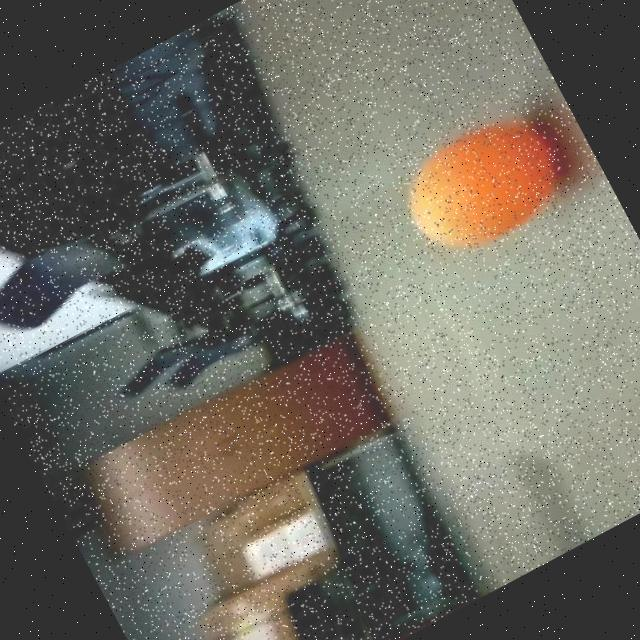ping-pong-ball: (378, 88, 586, 280)
